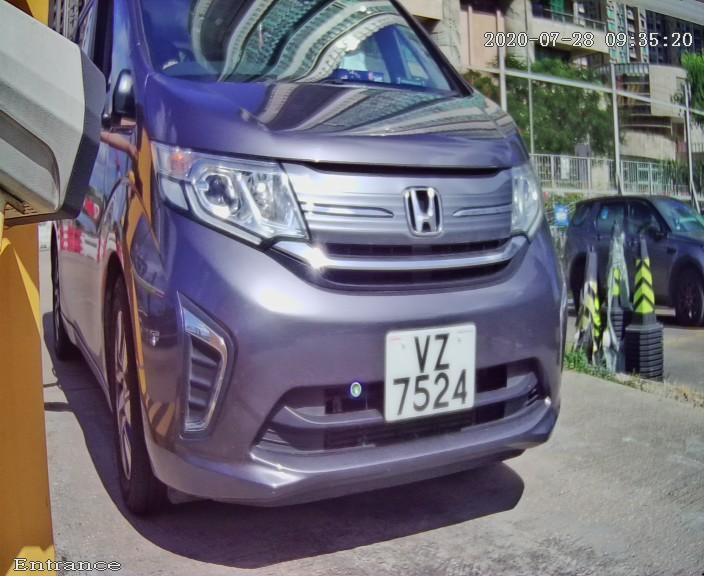privatecar: (10, 1, 651, 564)
